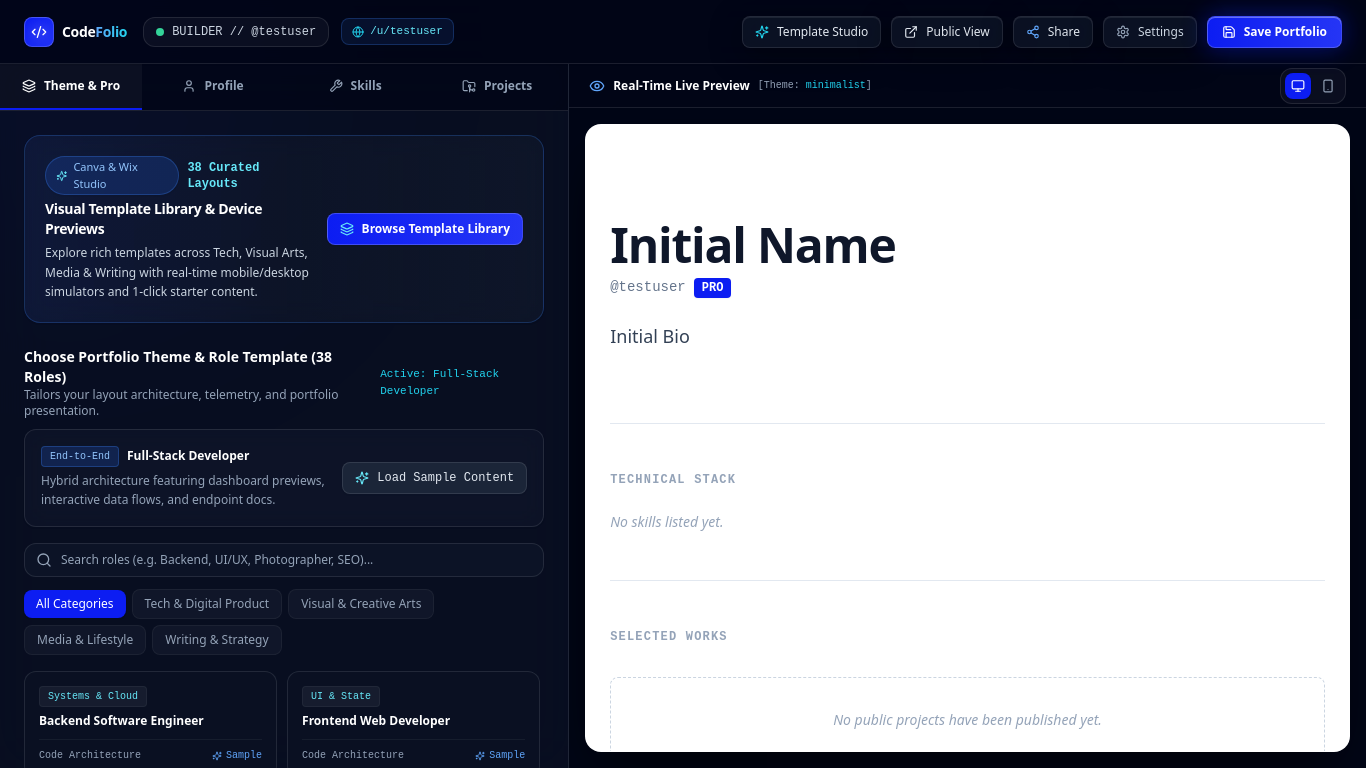
Scenario: ROLE TAXONOMY & TEMPLATE LAYOUT ENGINES TEST SUITE › 3. Split-Screen Builder Role Selector & Sample Data Pre-fill › should search roles via the search input
expect the heading "Choose Portfolio Theme & Role Template (38 Roles)" is shown: met, box [24,346,372,386]
Type "Tattoo" into the field with placeholder "Search roles (e.g. Backend, UI/UX, Photographer, SEO)..." at x=284, y=560, box [24,542,544,576]
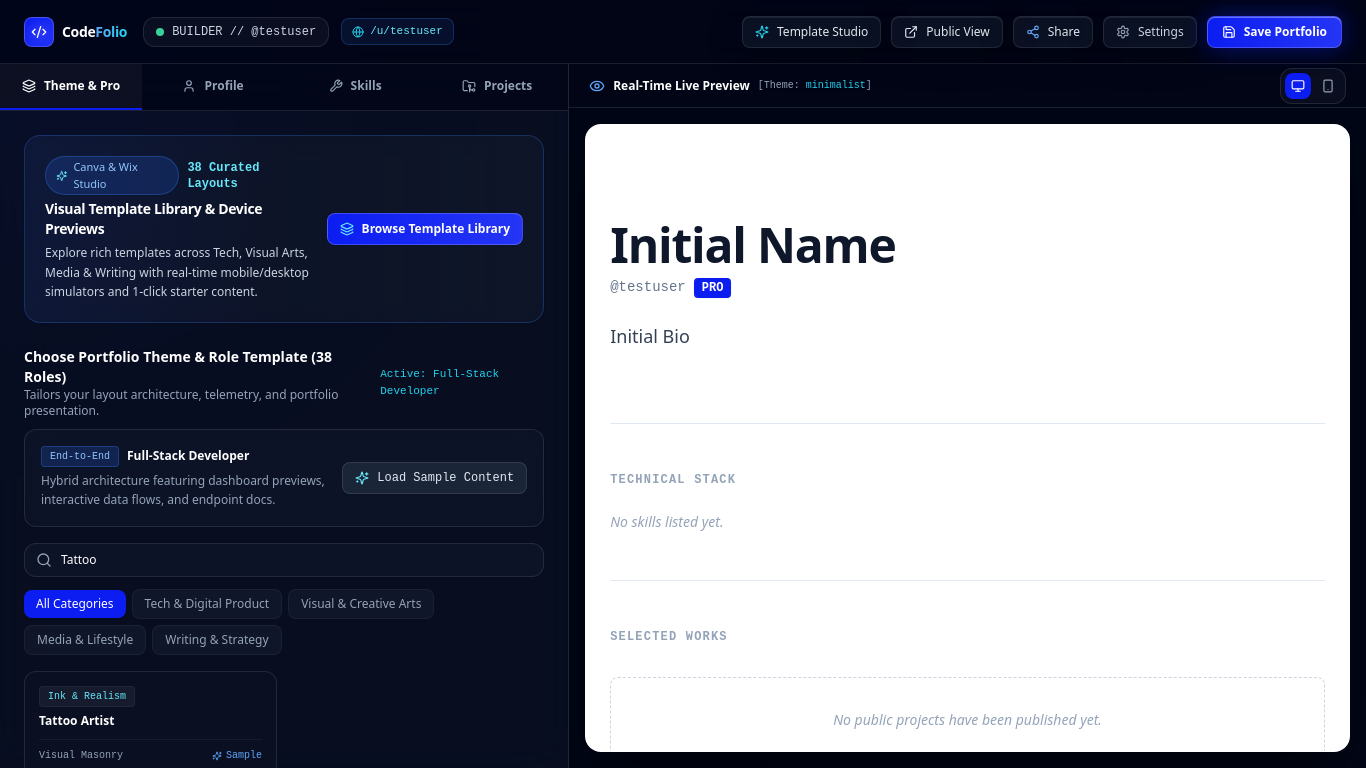
expect the heading "Tattoo Artist" is shown: met, box [39,712,114,728]
